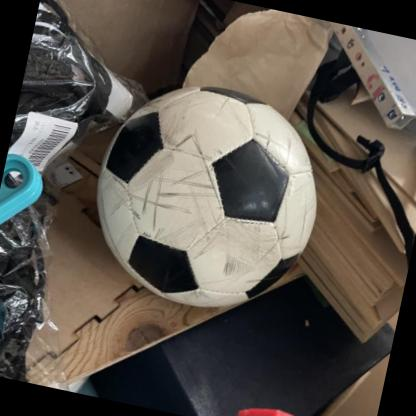ball: (77, 67, 336, 328)
